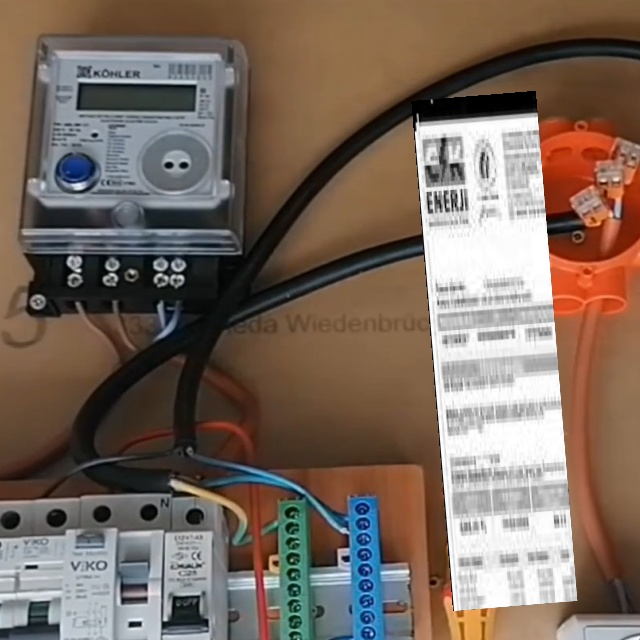electricity-bill: (411, 90, 577, 610)
